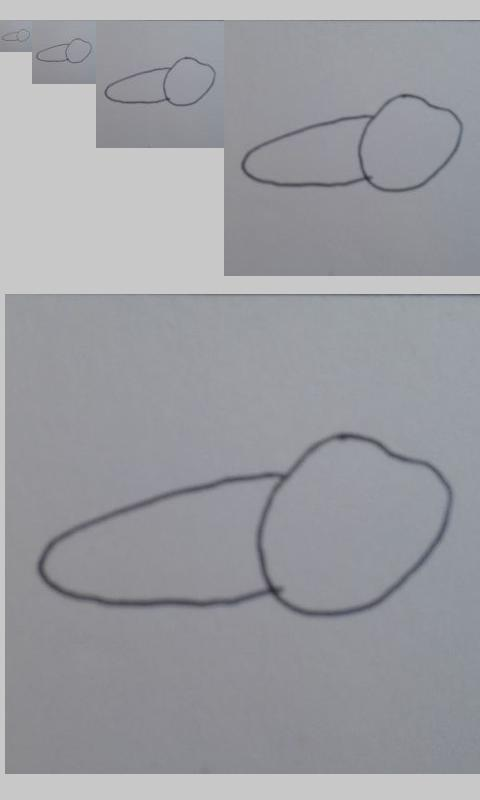switch: (35, 431, 454, 620), (240, 93, 464, 194), (104, 56, 217, 107), (35, 38, 93, 64), (1, 28, 31, 42)
